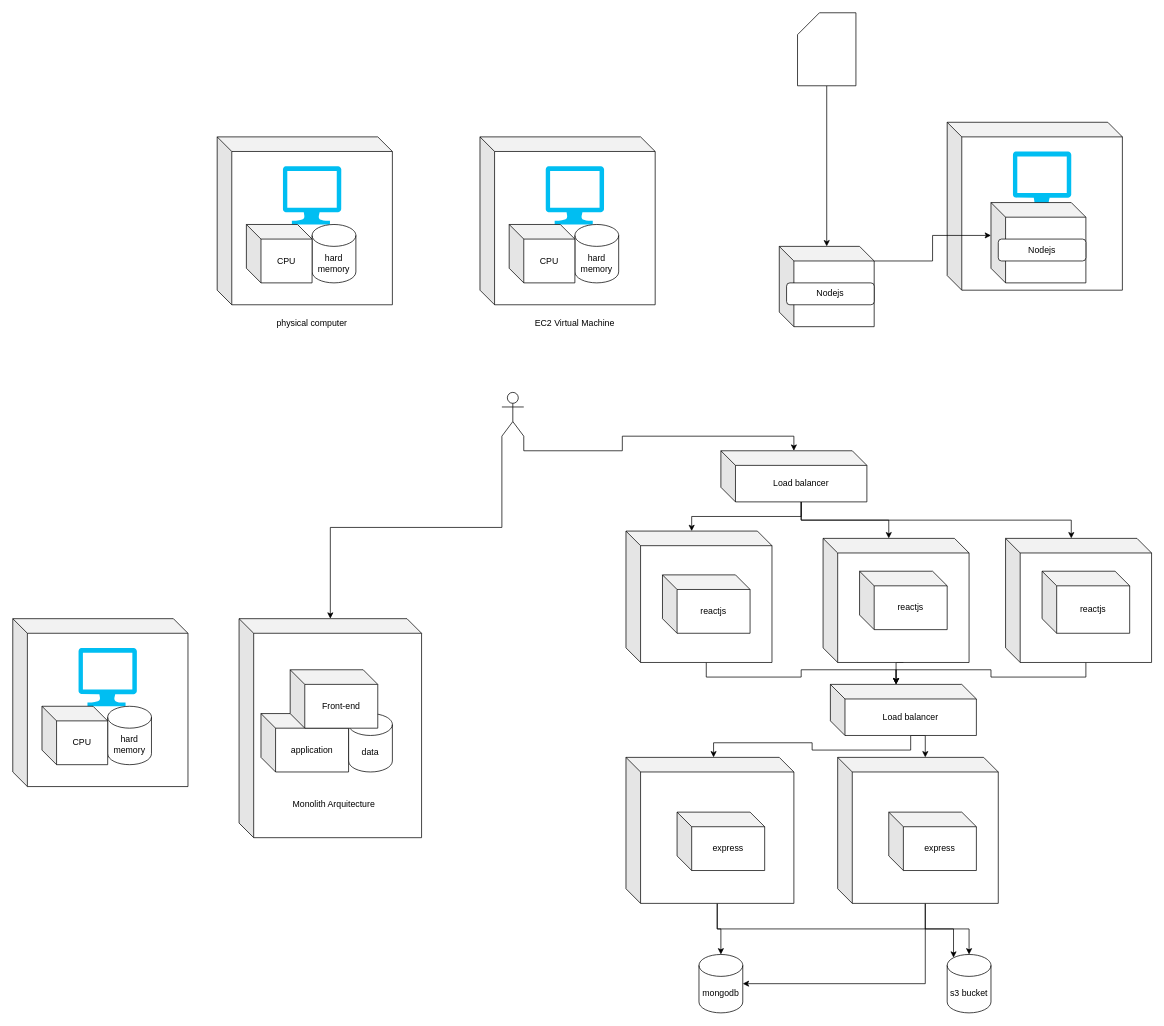
This 1164x1026 diagram has some shape labels left out. The shapes that lost their labels are listed below. From the top down, each one's centre as x and y in pixels, then its label:
At (x=826, y=49): "Dockerfile".
At (x=512, y=414): "User".
